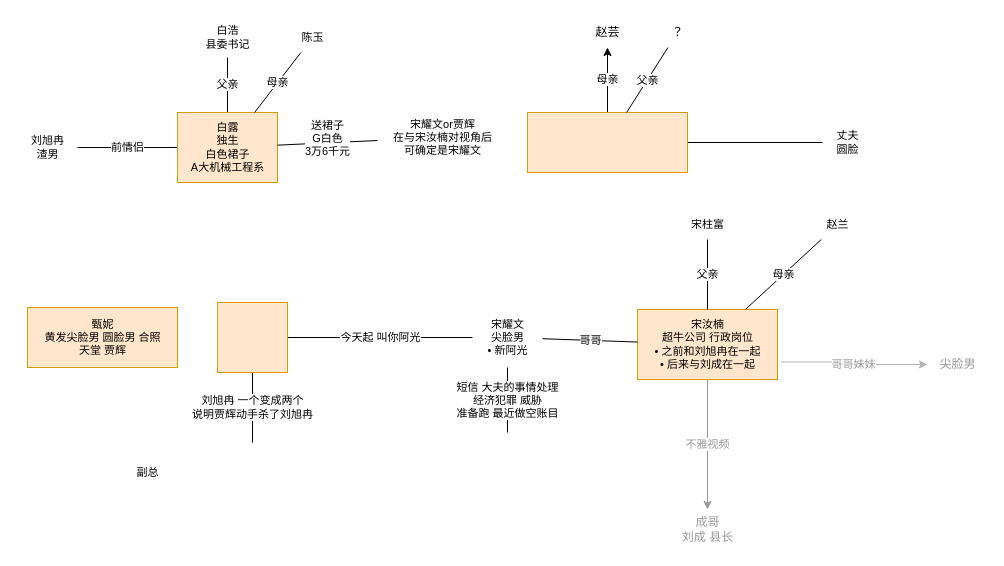
The diagram is 1004 pixels wide and 566 high, and some of its shapes have lost their labels. The box of each missing label's shape, as (x1, y1, x2, y2) in pixels:
贾辉 总经理 圆脸男 • 原阿光: (216, 302, 288, 372)
赵筱熙 独生 家里圆脸男和尖脸男合照: (526, 112, 688, 172)
